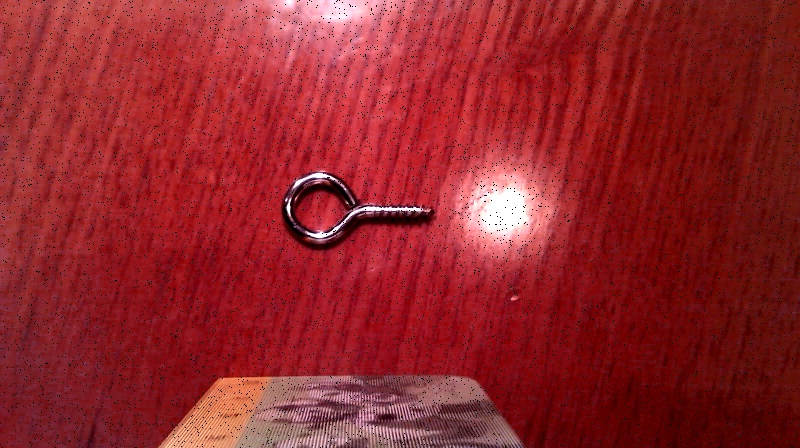O001: (274, 167, 436, 253)
